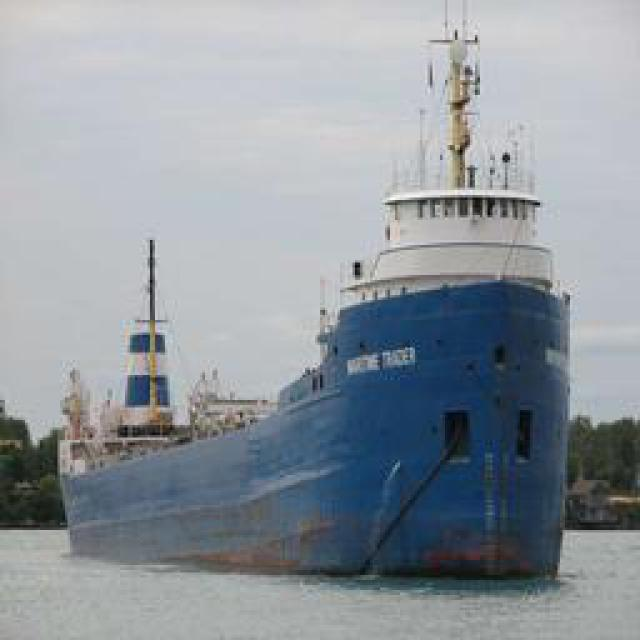Ship: (55, 39, 575, 594)
